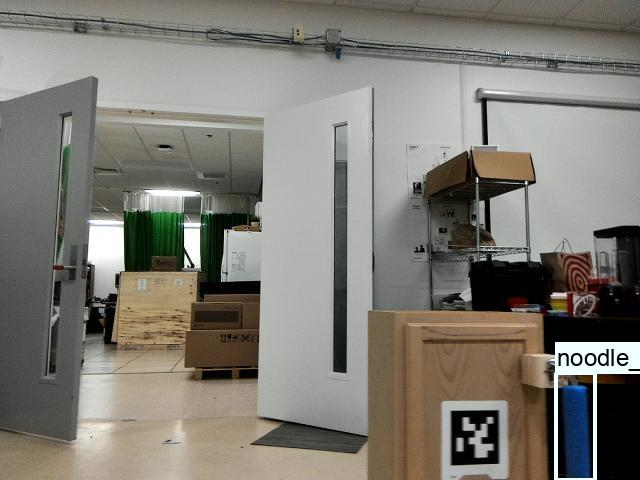noodle_handle: (562, 374, 593, 480)
